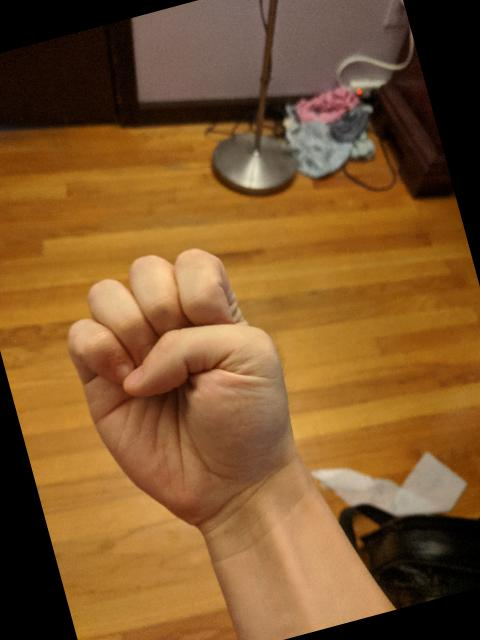E: (42, 223, 322, 560)
